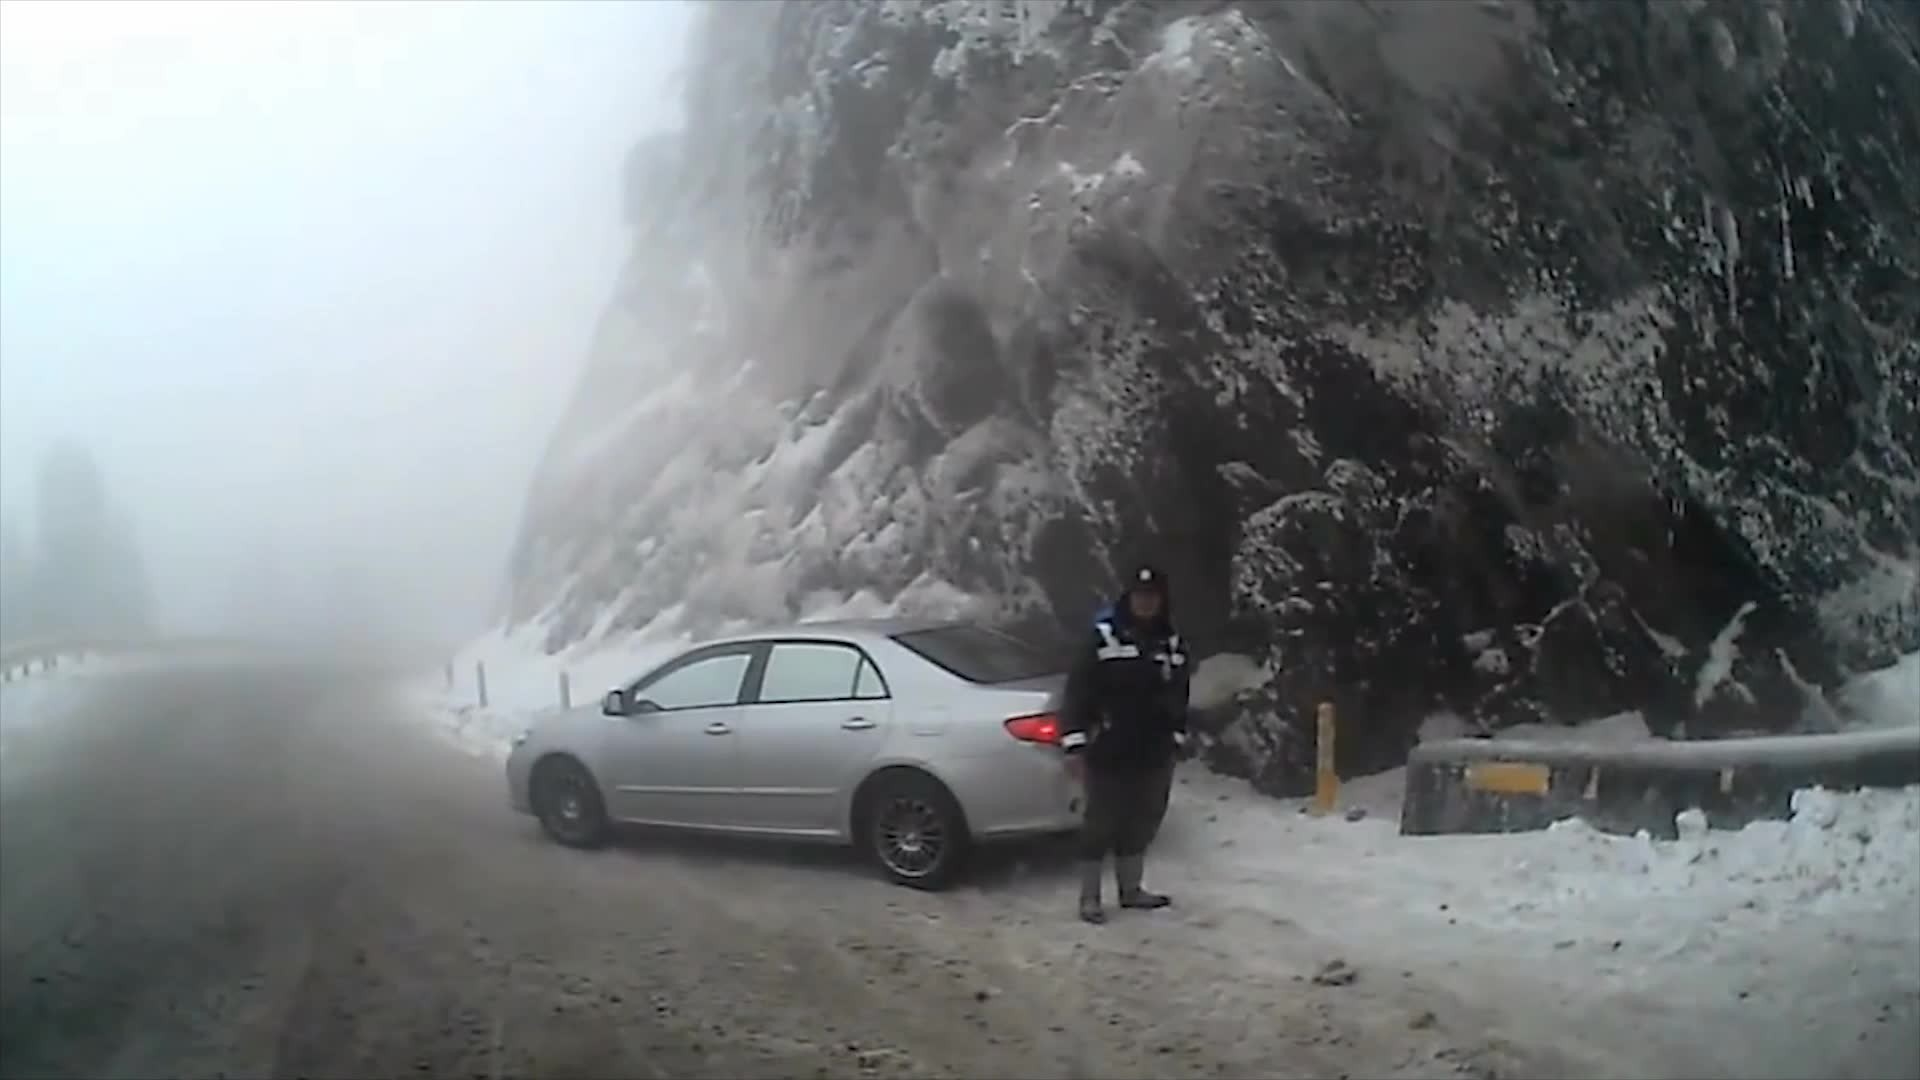pedestrian: (1056, 570, 1189, 928)
vehicle: (503, 615, 1180, 891)
